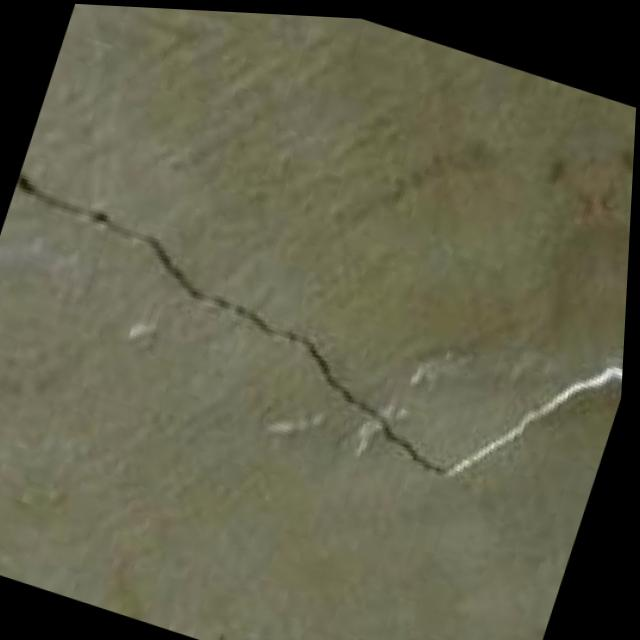Crack: (0, 131, 635, 543)
